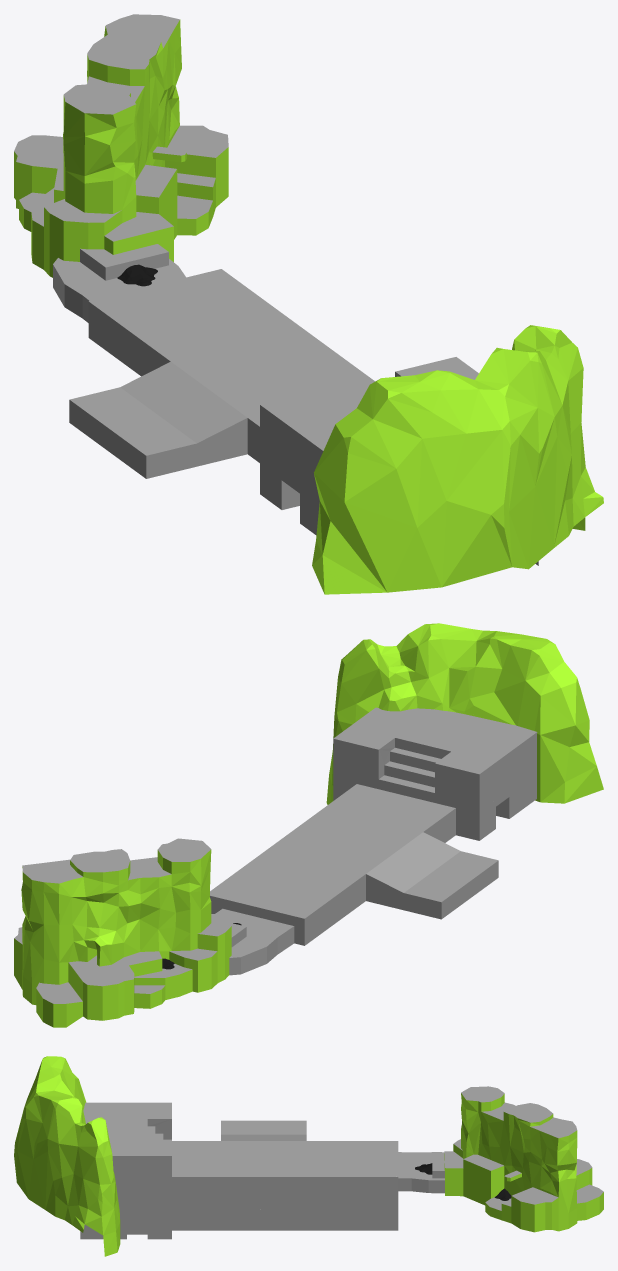
The model's file is LavaWorldHomeGround001.obj.obj.
The picture shows the model from 3 angles, top to bottom: view 1: azimuth 30°, elevation 25°; view 2: azimuth 150°, elevation 25°; view 3: azimuth 270°, elevation 25°; orthographic projection. The views are drawn at different scales.
Size of the model in its own units: 5729 by 3632 by 14463.
